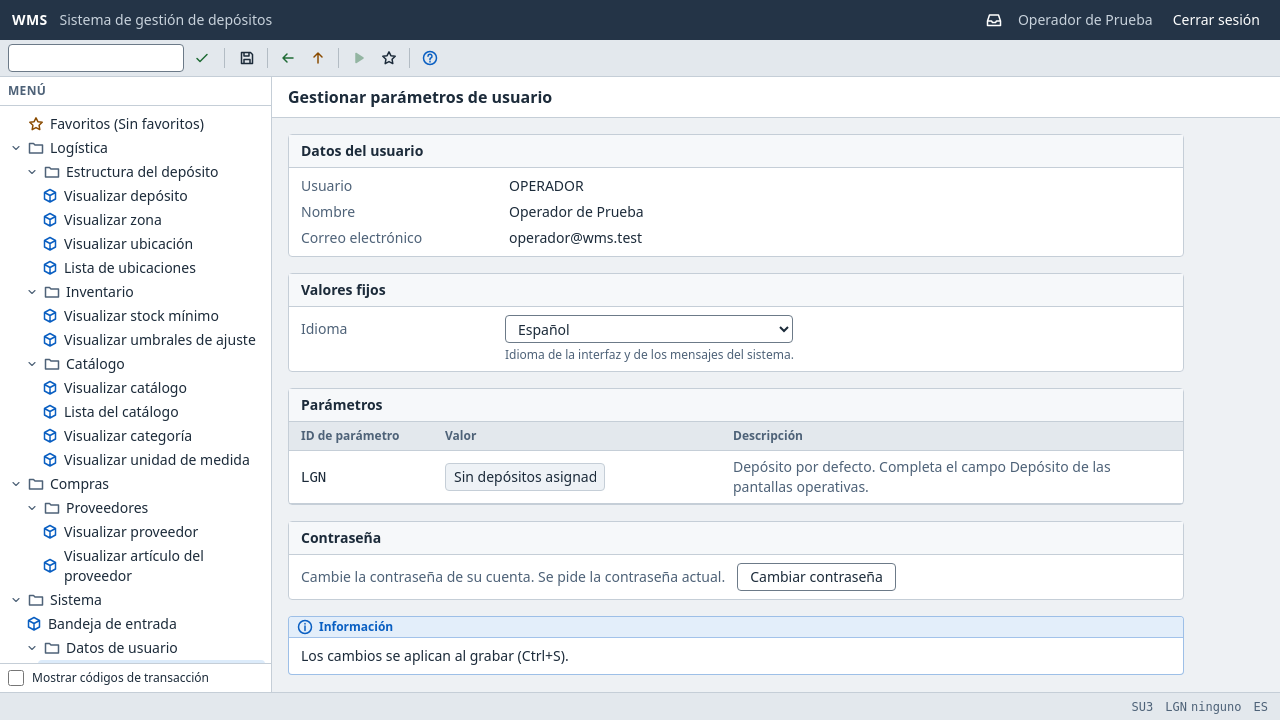
Scenario: cambio de contraseña voluntario desde SU3 › se abre en un diálogo, cambia la contraseña e informa el resultado
Click the button "Cambiar contraseña". click: (817, 577)
box: top-left (737, 563), bottom-right (896, 591)
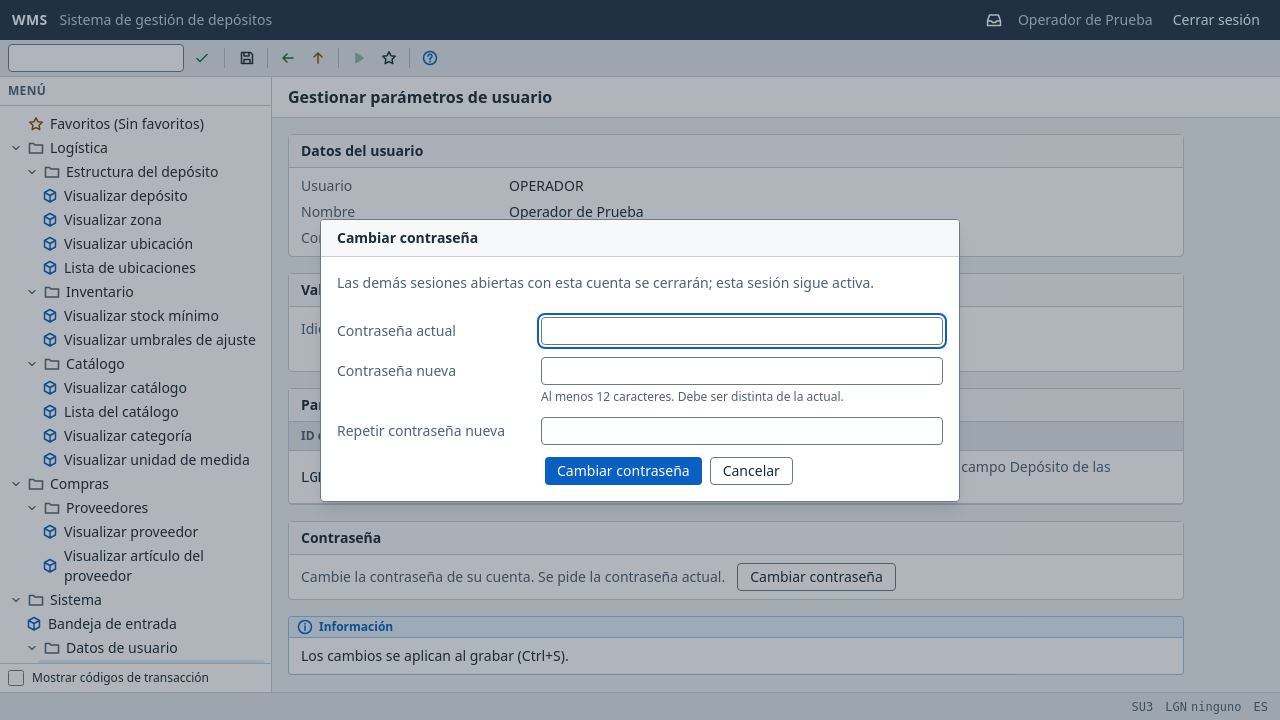
Type "clave-actual-segura" into the password field labelled "Contraseña actual". click: (742, 330)
box: top-left (541, 316), bottom-right (943, 344)
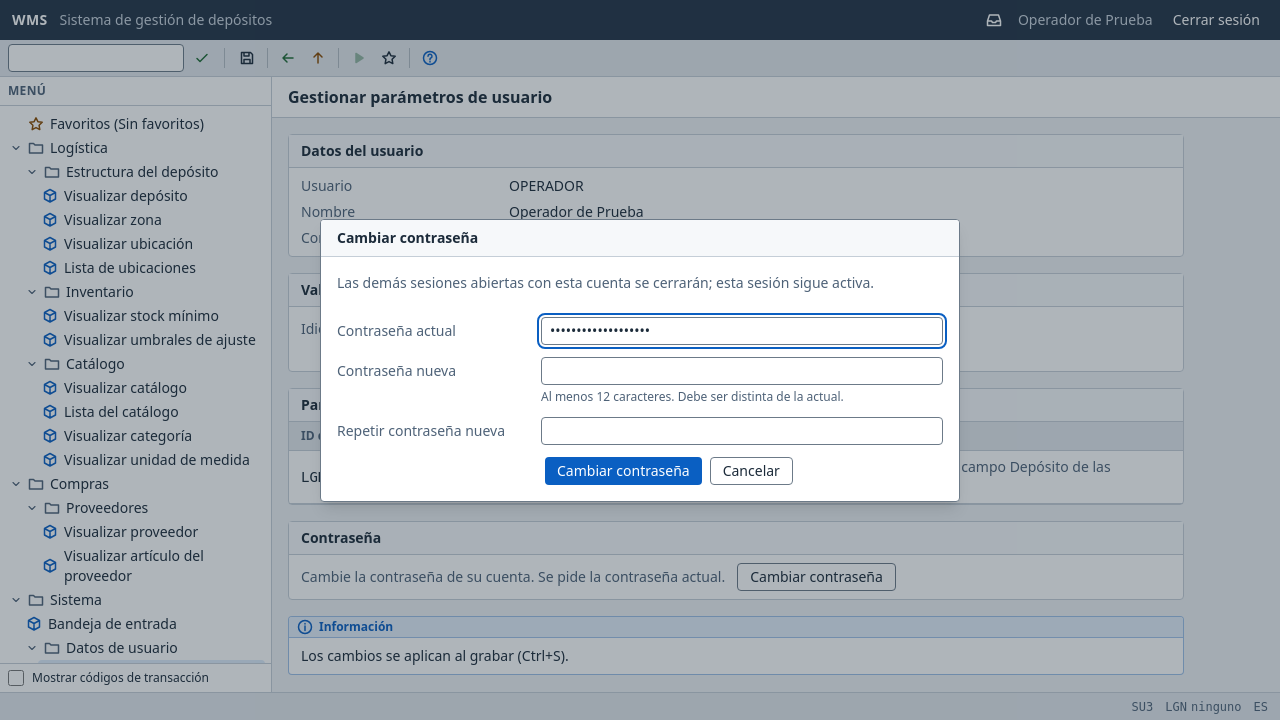
Type "clave-nueva-segura" into the password field labelled "Contraseña nueva". click: (742, 370)
box: top-left (541, 356), bottom-right (943, 384)
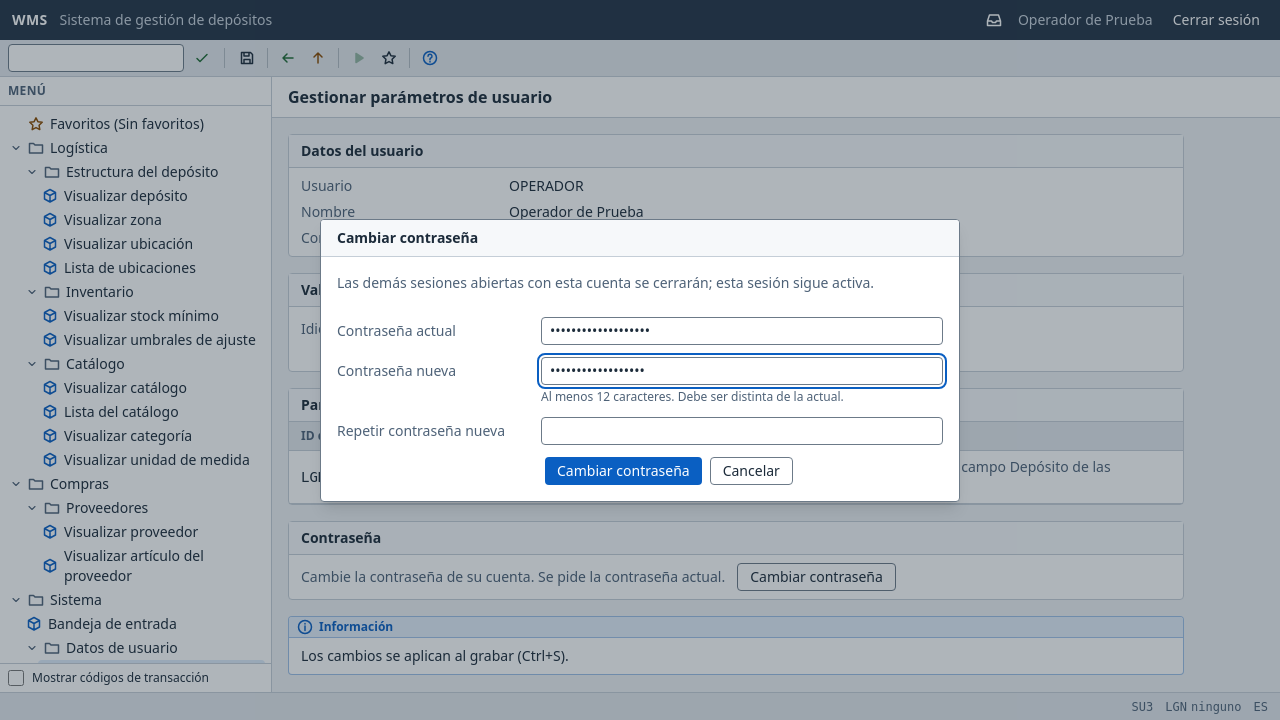
Type "clave-nueva-segura" into the password field labelled "Repetir contraseña nueva". click: (742, 430)
box: top-left (541, 416), bottom-right (943, 444)
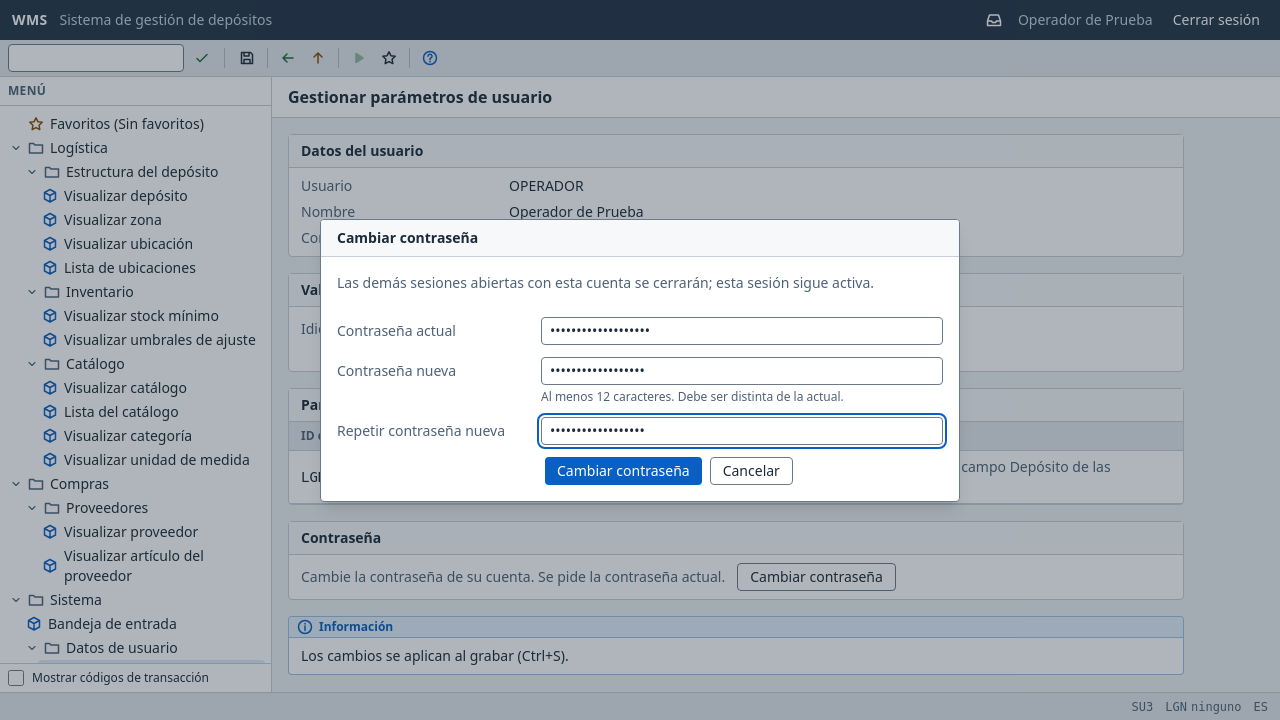
Click the button "Cambiar contraseña". click: (623, 470)
box: top-left (545, 456), bottom-right (702, 484)
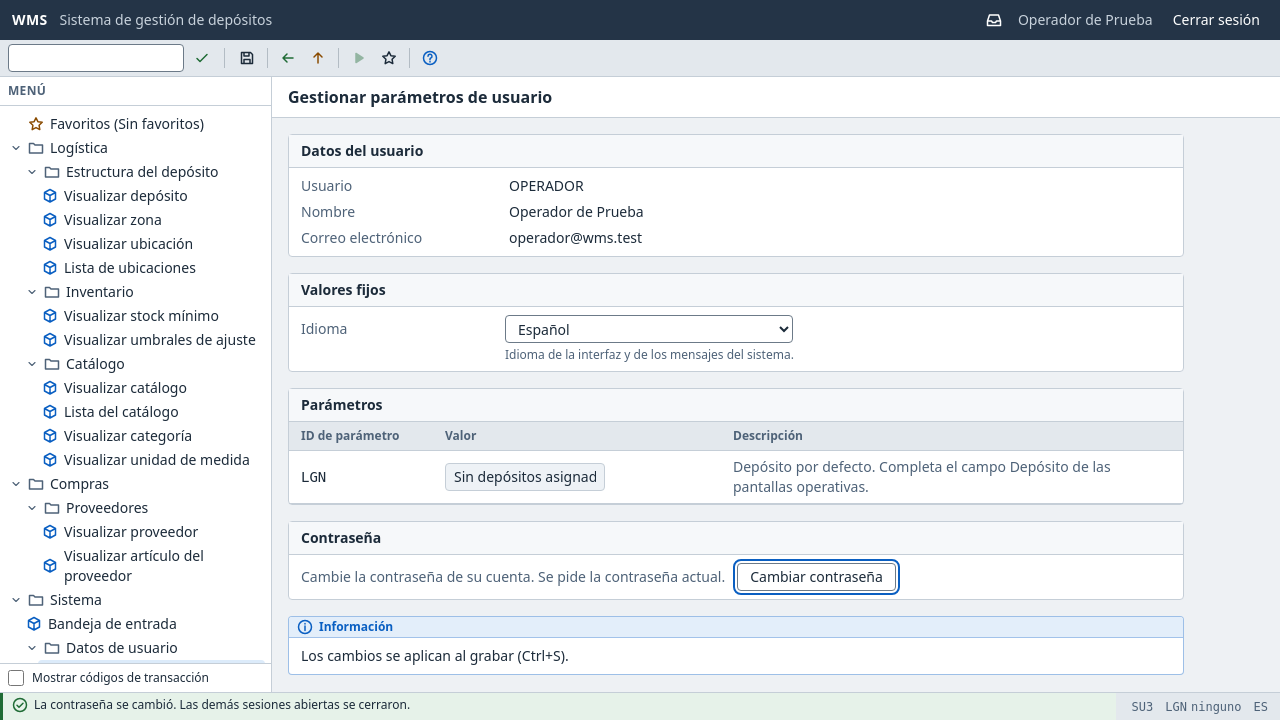
expect the text "La contraseña se cambió. Las demás sesiones abiertas se cerraron." is shown: met, box top-left (34, 696), bottom-right (410, 712)
